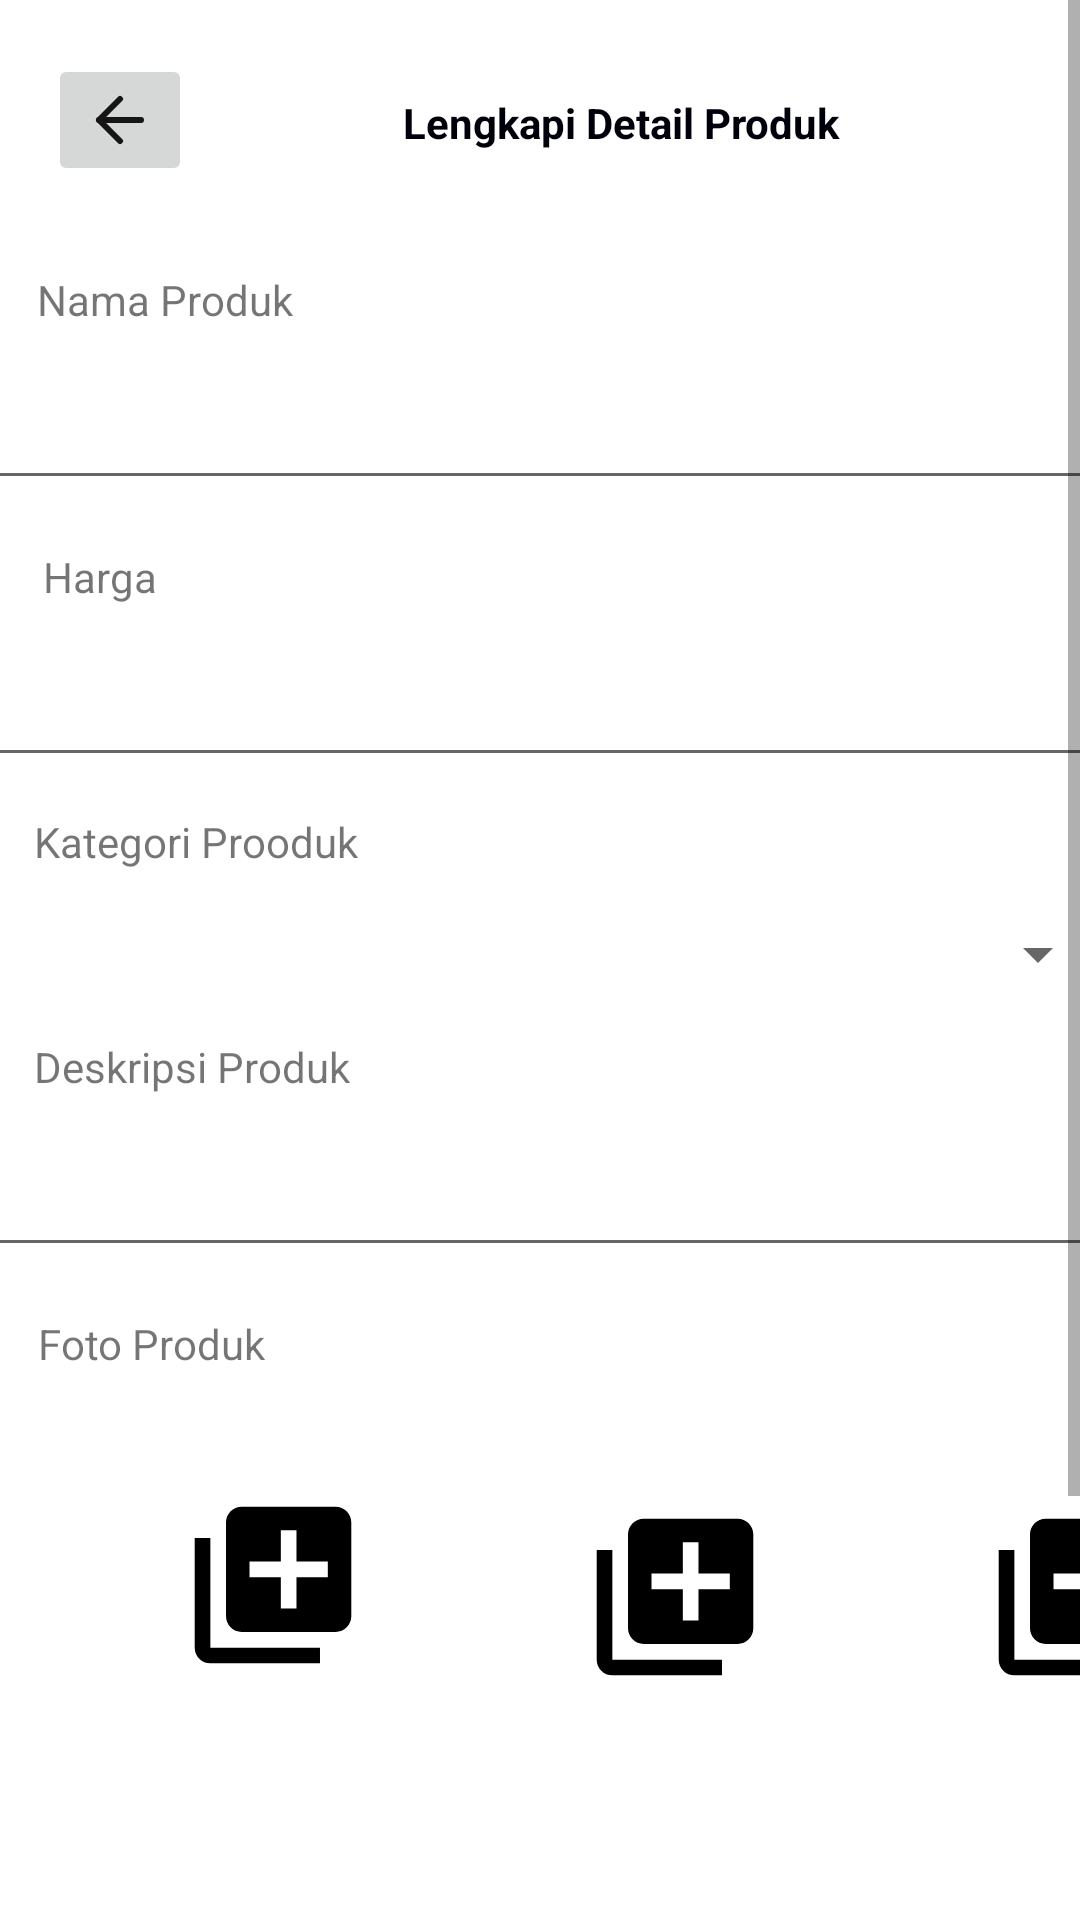

Icon click points for this 1080px×1920px phone screenshot, format [x,y]:
back button: [120,120]
